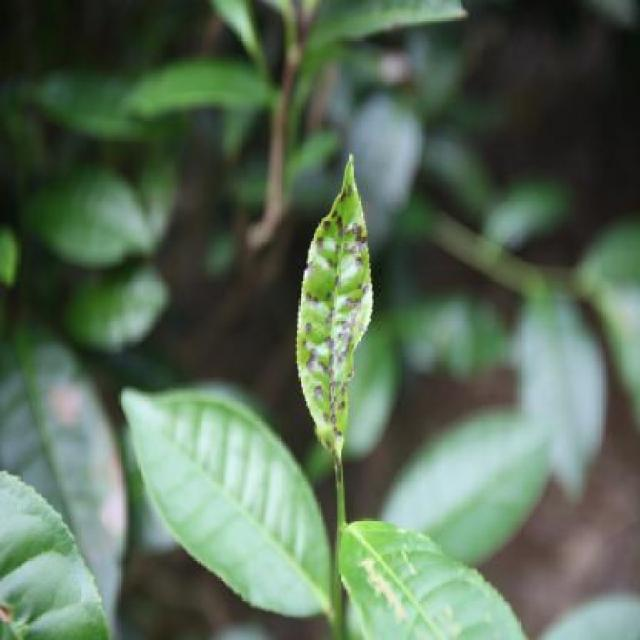Tea Mosquito bug infested leaf: (291, 143, 377, 459)
